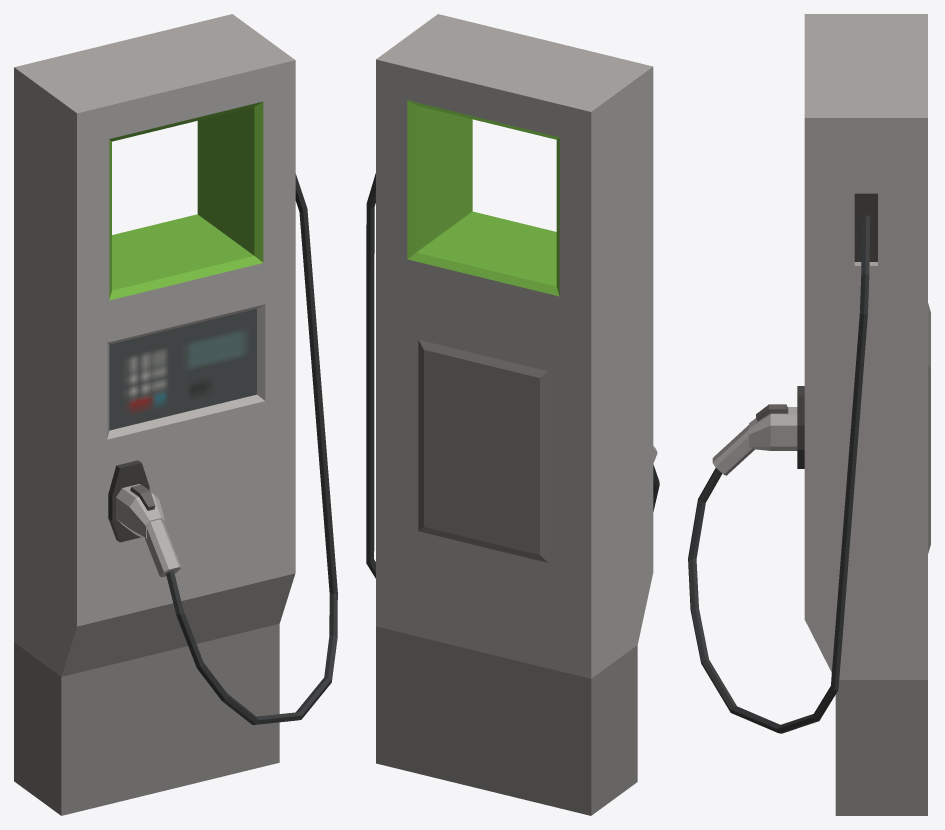
Rendered from SM_Bldg_City_EVchargingStation_Charger_02.fbx.
The picture shows the model from 3 angles, left to right: view 1: azimuth 30°, elevation 25°; view 2: azimuth 150°, elevation 25°; view 3: azimuth 270°, elevation 25°; orthographic projection. The views are drawn at different scales.
Parts seen in each view (by area): view 1: SM_Bldg_City_EVchargingStation_Charger_02; view 2: SM_Bldg_City_EVchargingStation_Charger_02; view 3: SM_Bldg_City_EVchargingStation_Charger_02.
Boxes of the visible parts, x1,y1,x2,y2 form: SM_Bldg_City_EVchargingStation_Charger_02: [14, 14, 337, 815]; SM_Bldg_City_EVchargingStation_Charger_02: [366, 14, 659, 815]; SM_Bldg_City_EVchargingStation_Charger_02: [688, 14, 930, 815].
Bounding box in the file's own units: 101 × 250 × 78.89.
